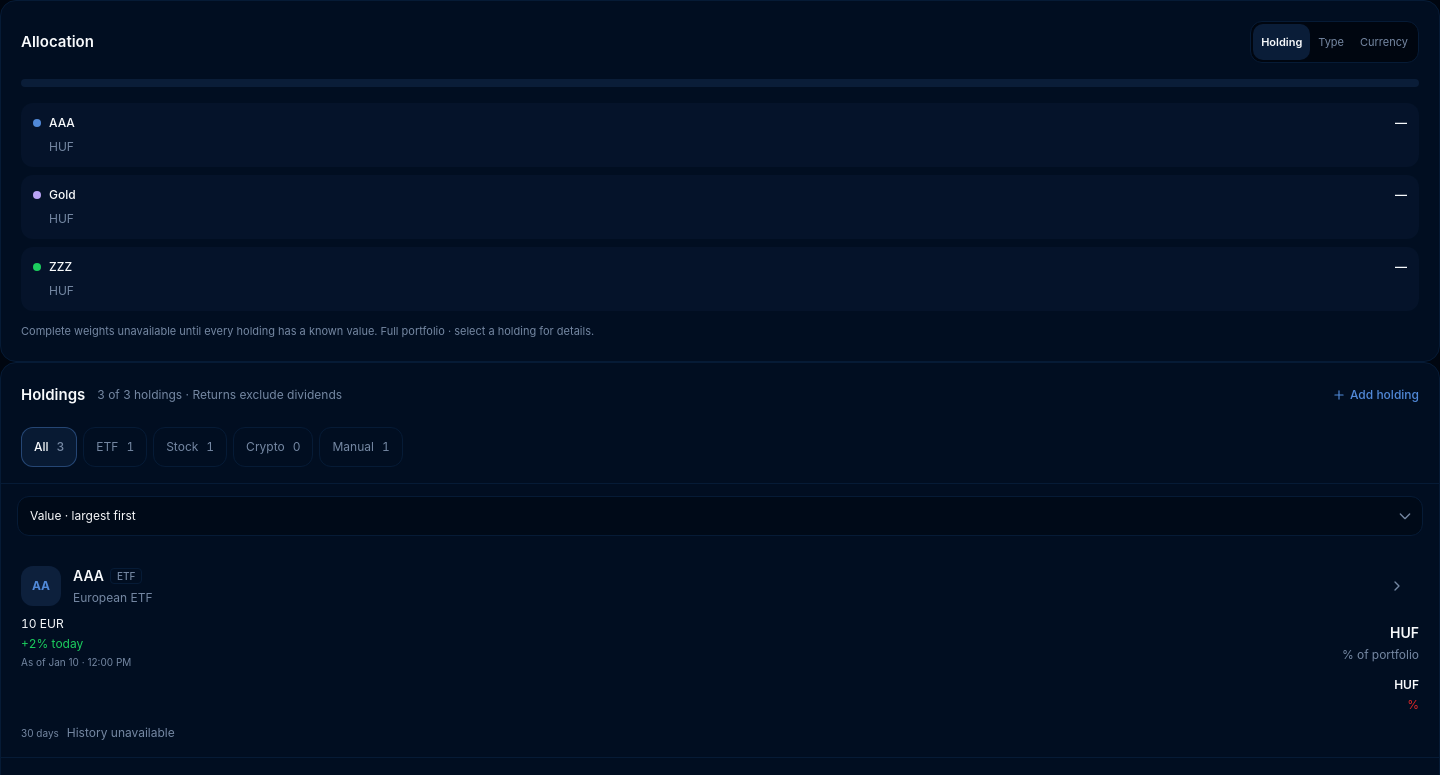
withholds complete allocation bars/weights when one holding has a missing value
Check: the text "Complete weights unavailable" is shown, box [21, 324, 381, 338]
Click the button "currency" at (1384, 42), box [1352, 24, 1416, 60]
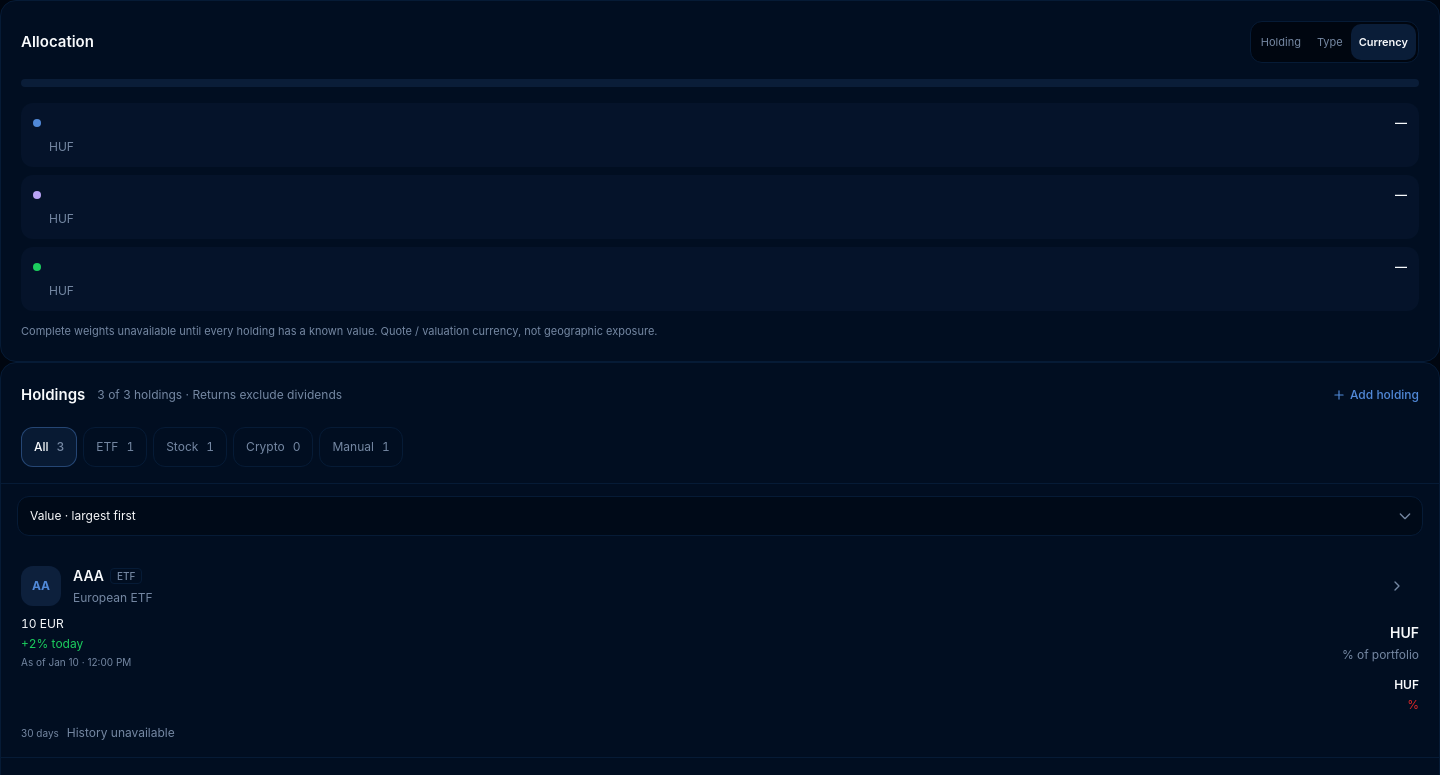
Check: the text "not geographic exposure" is shown, box [381, 324, 658, 338]
